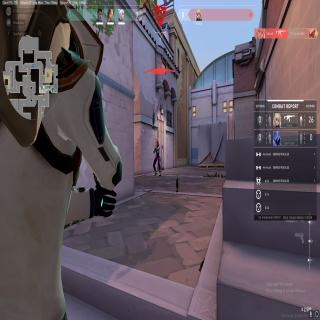ENEMY-BODY: (152, 138, 162, 178)
ENEMY-HEAD: (155, 139, 159, 146)
